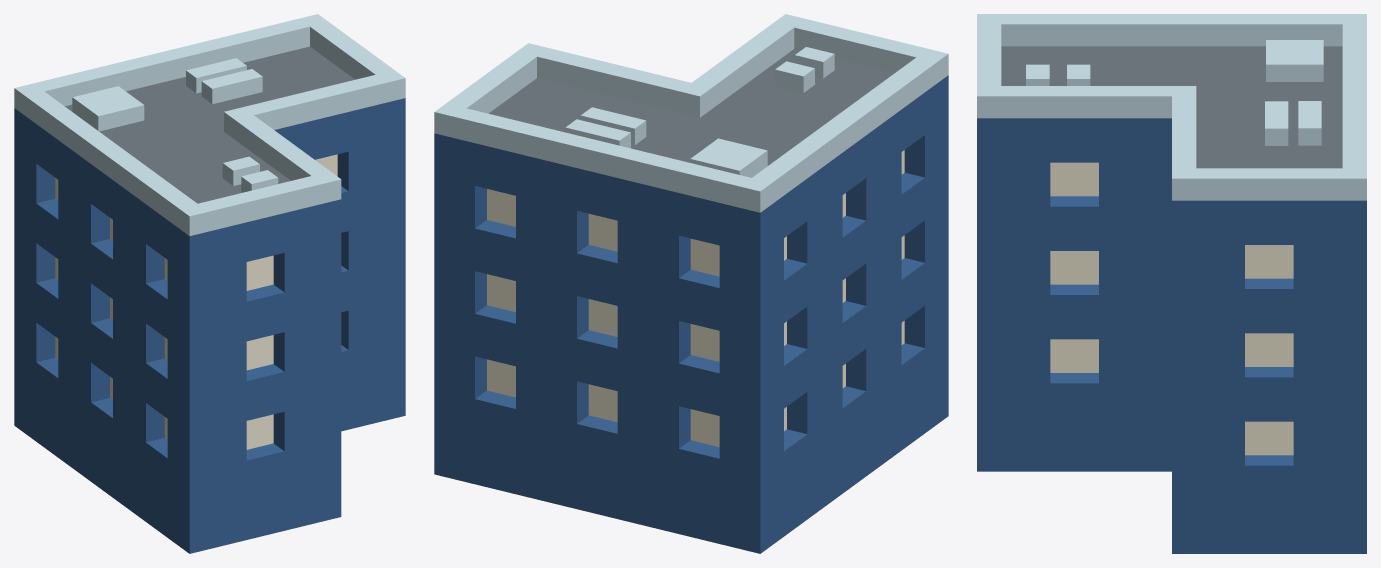
File: Building_3_Extra (Blue).obj
3 views of the same model, side by side, from view 1: azimuth 30°, elevation 25°; view 2: azimuth 150°, elevation 25°; view 3: azimuth 270°, elevation 25° (orthographic). The views are drawn at different scales.
Parts seen in each view (by area): view 1: Building_3_Extra_(Blue); view 2: Building_3_Extra_(Blue); view 3: Building_3_Extra_(Blue).
Part boxes in pixels (x1,y1,x2,y2): Building_3_Extra_(Blue): (14, 14, 405, 553); Building_3_Extra_(Blue): (434, 14, 948, 553); Building_3_Extra_(Blue): (977, 14, 1366, 553).
Bounding box in the file's own units: 1.6 × 1.7 × 1.6.
